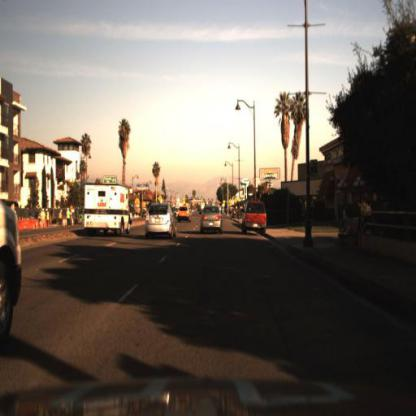car: (1, 171, 33, 352), (78, 175, 138, 245), (142, 201, 180, 241), (243, 198, 268, 240), (198, 196, 225, 229), (176, 200, 193, 229), (175, 201, 193, 228)
pedestrian: (66, 202, 75, 230), (58, 203, 66, 230), (41, 209, 47, 229), (47, 209, 51, 227)
truck: (81, 180, 136, 240)
